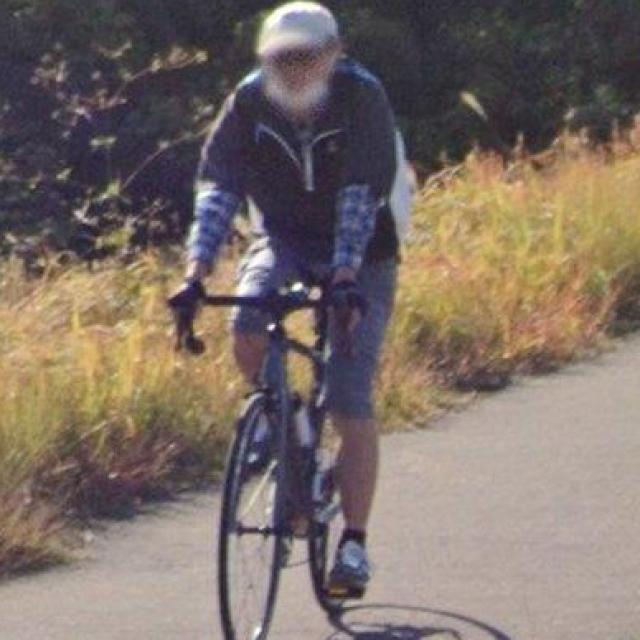bicycle: (220, 272, 357, 640)
